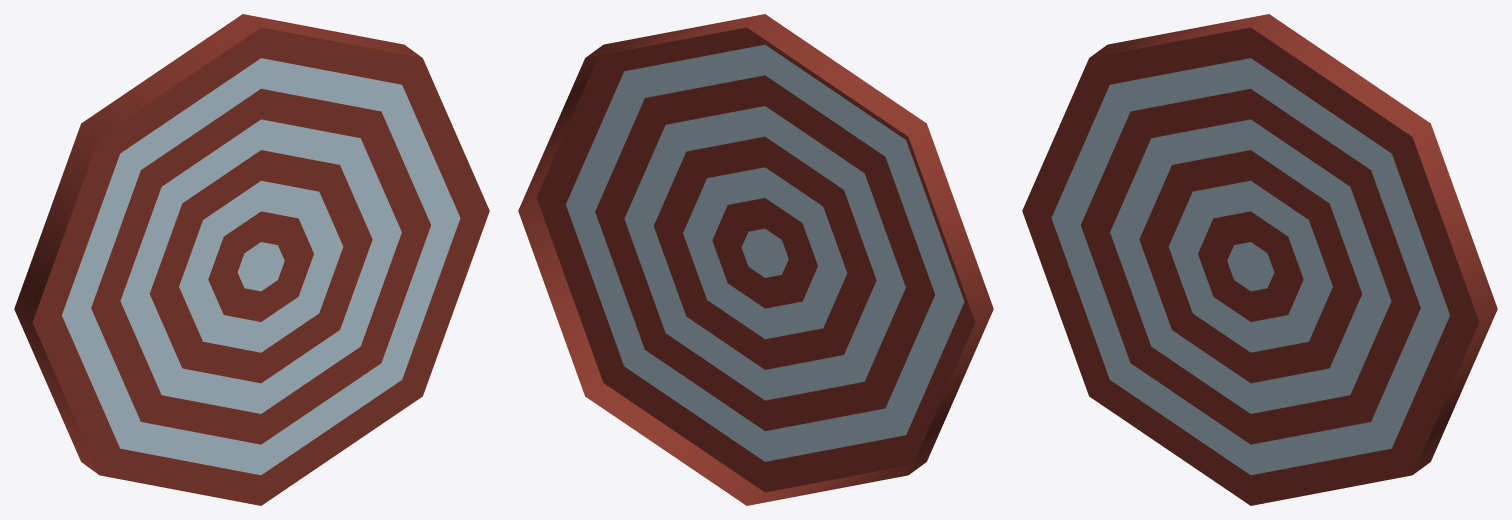
The model's file is SM_GameArea_Target_01.fbx.
The picture shows the model from 3 angles, left to right: view 1: azimuth 30°, elevation 25°; view 2: azimuth 150°, elevation 25°; view 3: azimuth 330°, elevation 25°; orthographic projection.
Visible parts, largest first — view 1: SM_GameArea_Target_01; view 2: SM_GameArea_Target_01; view 3: SM_GameArea_Target_01.
Part boxes in pixels (box(x1,y1,x2,y2)): SM_GameArea_Target_01: box(14, 14, 489, 505); SM_GameArea_Target_01: box(518, 14, 993, 505); SM_GameArea_Target_01: box(1022, 14, 1497, 505).
Bounding box in the file's own units: 3.72 × 3.72 × 0.2586.
1 material, 1 textured.
